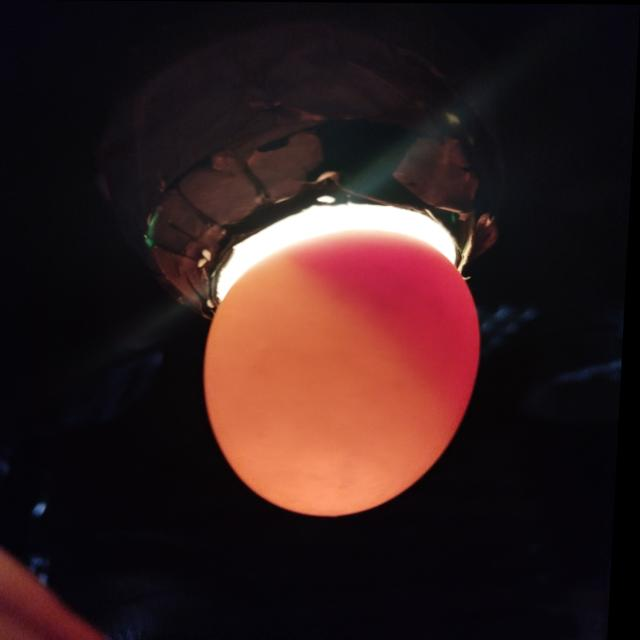Gema Quebrada: (283, 229, 485, 421)
